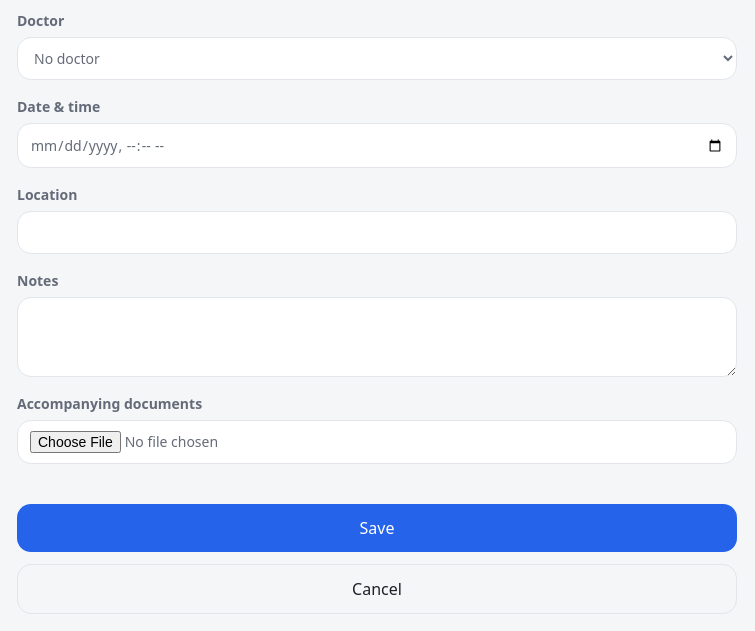
Test: AppointmentFormScreen › fills the location from the selected doctor's address
The width and height of the screenshot is (755, 631).
Select "Dr. Amy Lee" in the dropdown labelled "Doctor" at (377, 58), box [17,37,737,80]
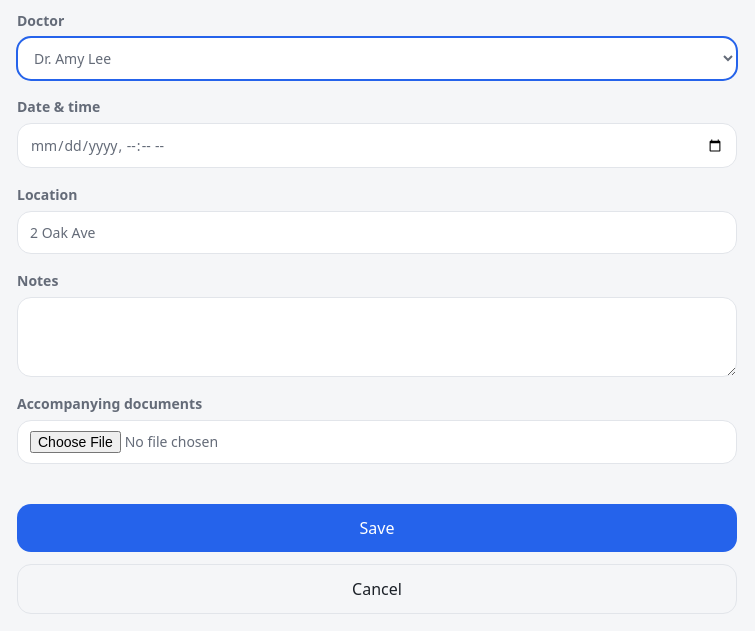
Check: the field labelled "Location" holds "2 Oak Ave", box [17,211,737,254]
